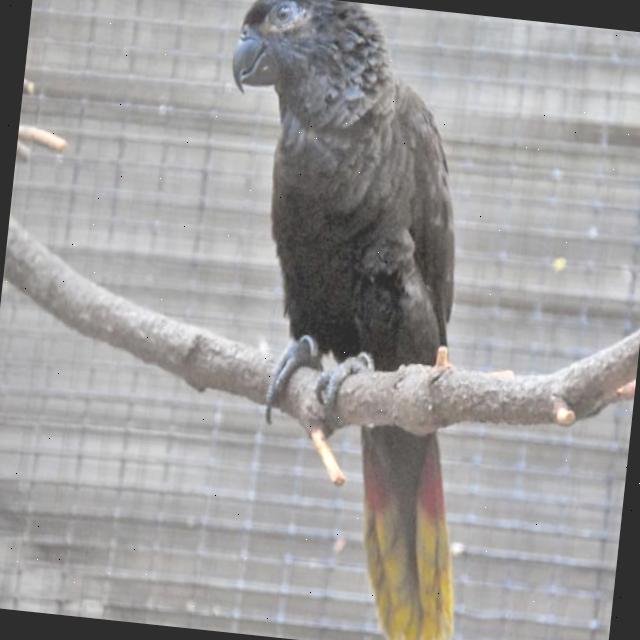Nuri Hitam: (161, 0, 544, 640)
